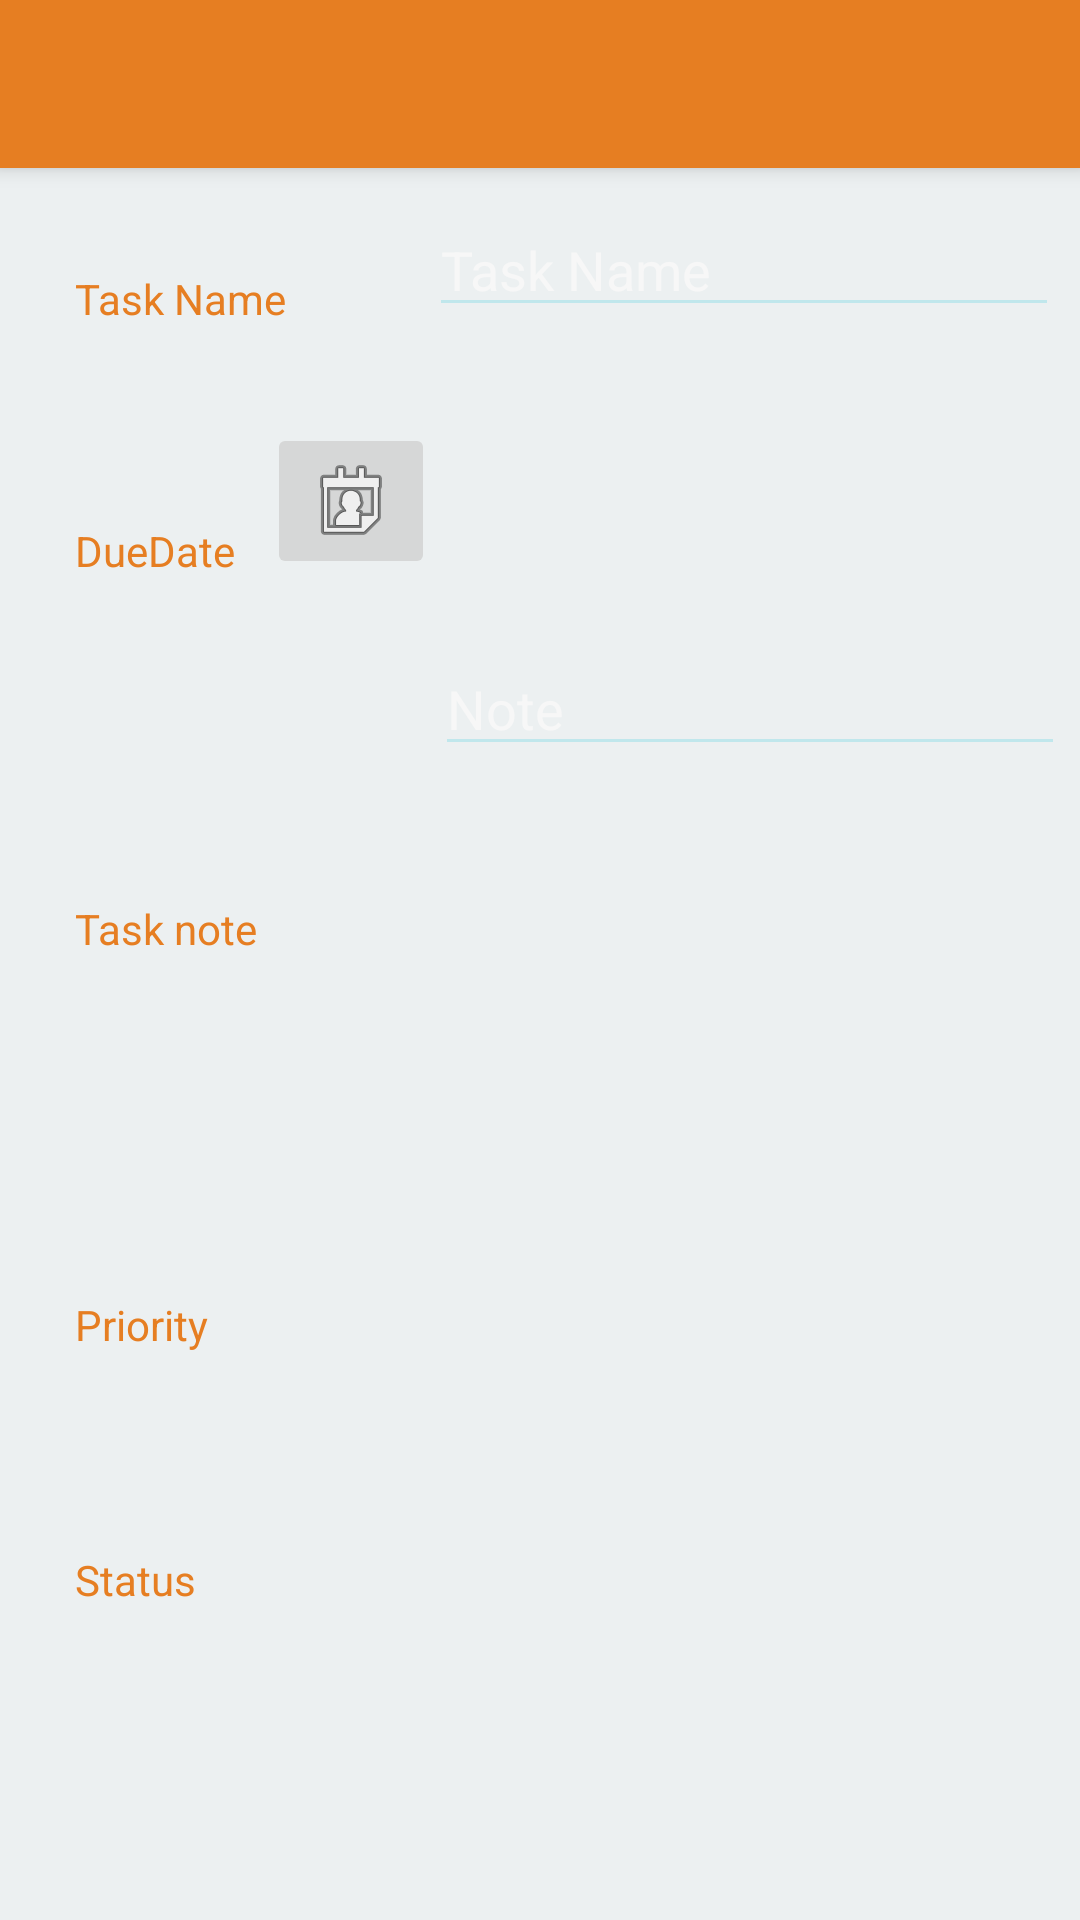

Where to tap for icons on this 1080px x 1920px app screen, as point (x, y):
calendar: point (351, 501)
